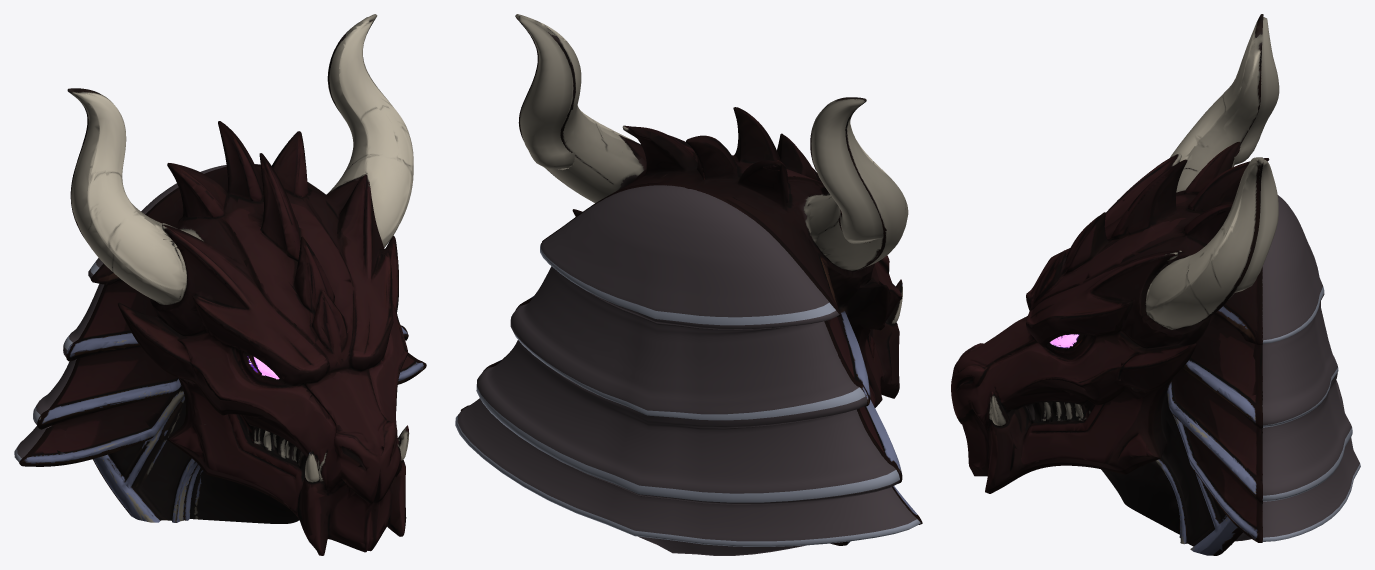
Rendered from h_dragonknight_dark_f.glb.
The picture shows the model from 3 angles, left to right: view 1: azimuth 30°, elevation 25°; view 2: azimuth 150°, elevation 25°; view 3: azimuth 270°, elevation 25°; orthographic projection. The views are drawn at different scales.
Parts seen in each view (by area): view 1: DragonKnightHelm; view 2: DragonKnightHelm; view 3: DragonKnightHelm.
Part boxes in pixels (box(x1,y1,x2,y2)): DragonKnightHelm: box(14, 14, 426, 555); DragonKnightHelm: box(455, 14, 922, 555); DragonKnightHelm: box(951, 14, 1360, 555).
Bounding box in the file's own units: 0.5266 × 0.5271 × 0.4667.
4 materials, 1 textured.
